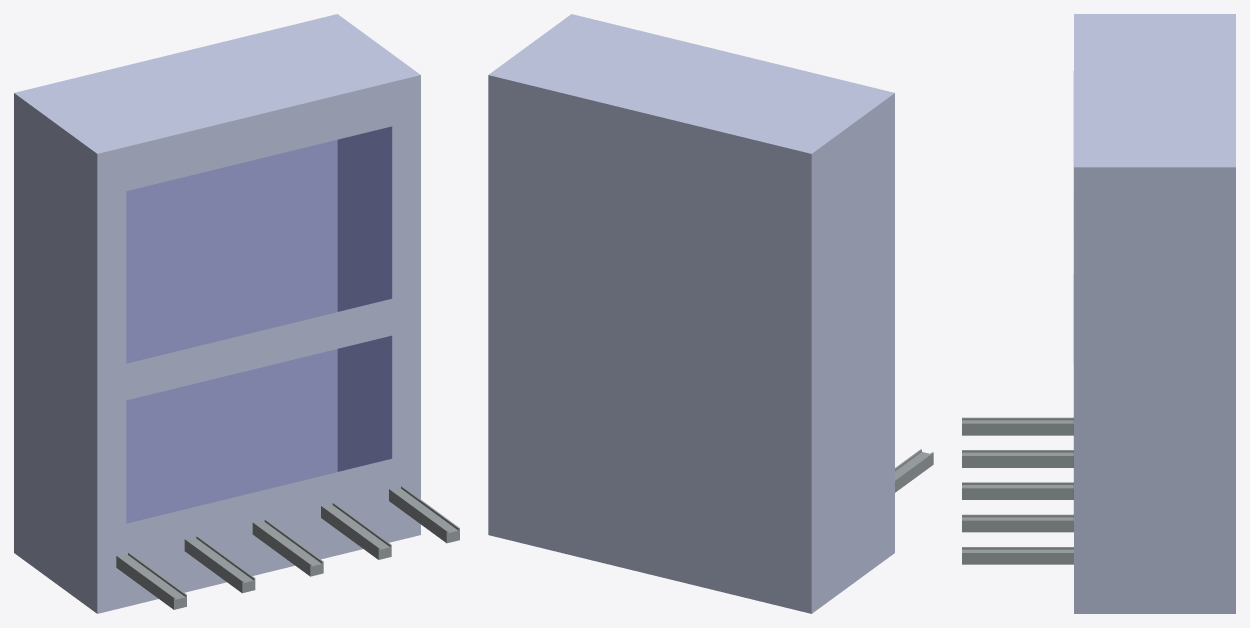
The model's file is asrs_new.dae.
3 renders of one model, left to right at view 1: azimuth 30°, elevation 25°; view 2: azimuth 150°, elevation 25°; view 3: azimuth 270°, elevation 25°, orthographic. The views are drawn at different scales.
Parts seen in each view (by area): view 1: ID2; view 2: ID2; view 3: ID2.
Part boxes in pixels (<box>): ID2: <box>14,14,459,613</box>; ID2: <box>488,14,933,613</box>; ID2: <box>962,14,1235,613</box>.
Bounding box in the file's own units: 1.38 × 1.04 × 1.87.
